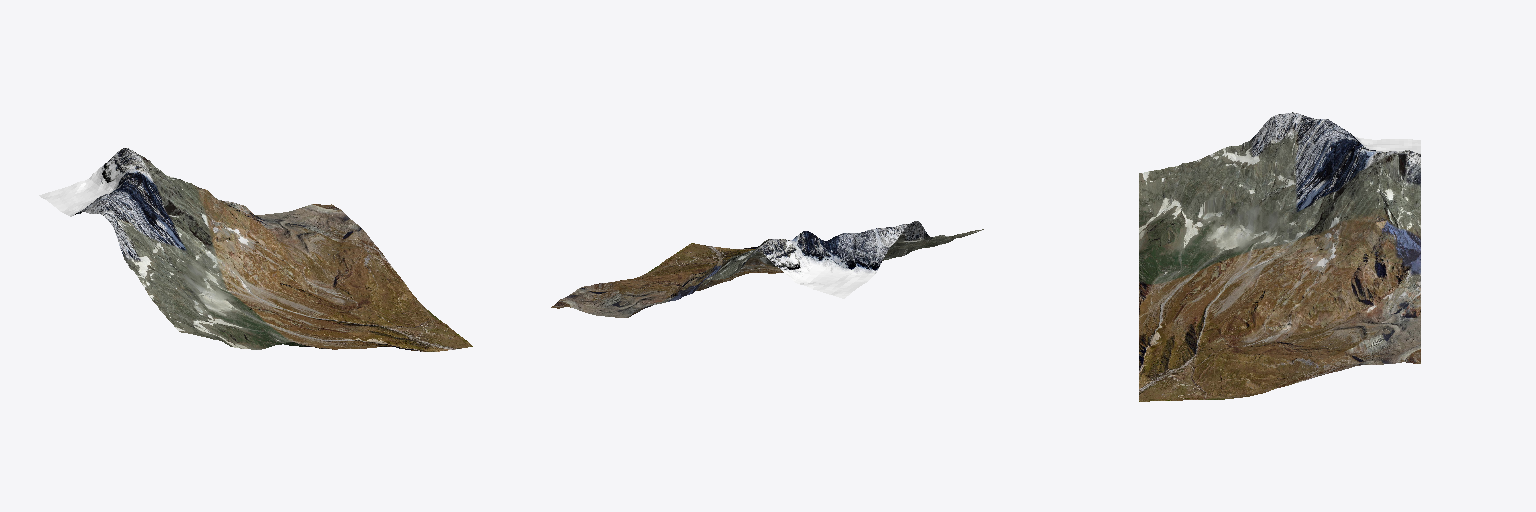
3 views of the same model, side by side, from view 1: azimuth 30°, elevation 25°; view 2: azimuth 150°, elevation 25°; view 3: azimuth 270°, elevation 25° (orthographic).
Visible parts, largest first — view 1: EXPORT_GOOGLE_SAT_WM.002; view 2: EXPORT_GOOGLE_SAT_WM.002; view 3: EXPORT_GOOGLE_SAT_WM.002.
Boxes of the visible parts, box(x1,y1,x2,y2) form: EXPORT_GOOGLE_SAT_WM.002: box(39, 148, 472, 351); EXPORT_GOOGLE_SAT_WM.002: box(551, 221, 983, 317); EXPORT_GOOGLE_SAT_WM.002: box(1139, 112, 1420, 401).
Size of the model in its own units: 4562 by 2212 by 3802.
1 materials, 1 textured.